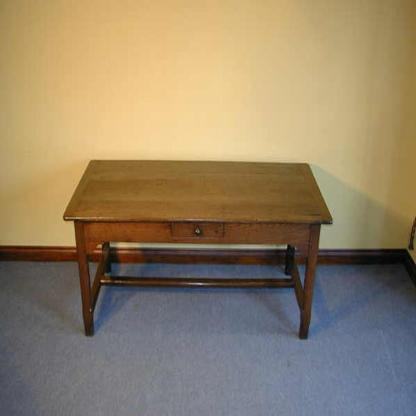Table: (57, 143, 340, 360)
